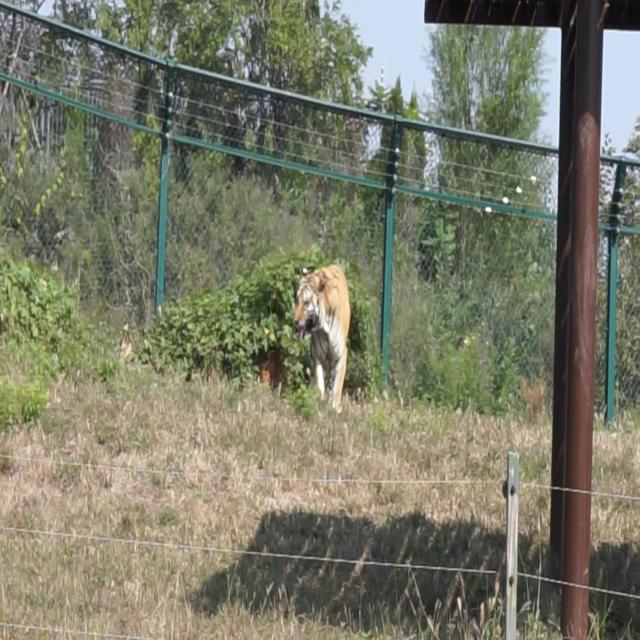Tiger: (286, 243, 366, 417)
